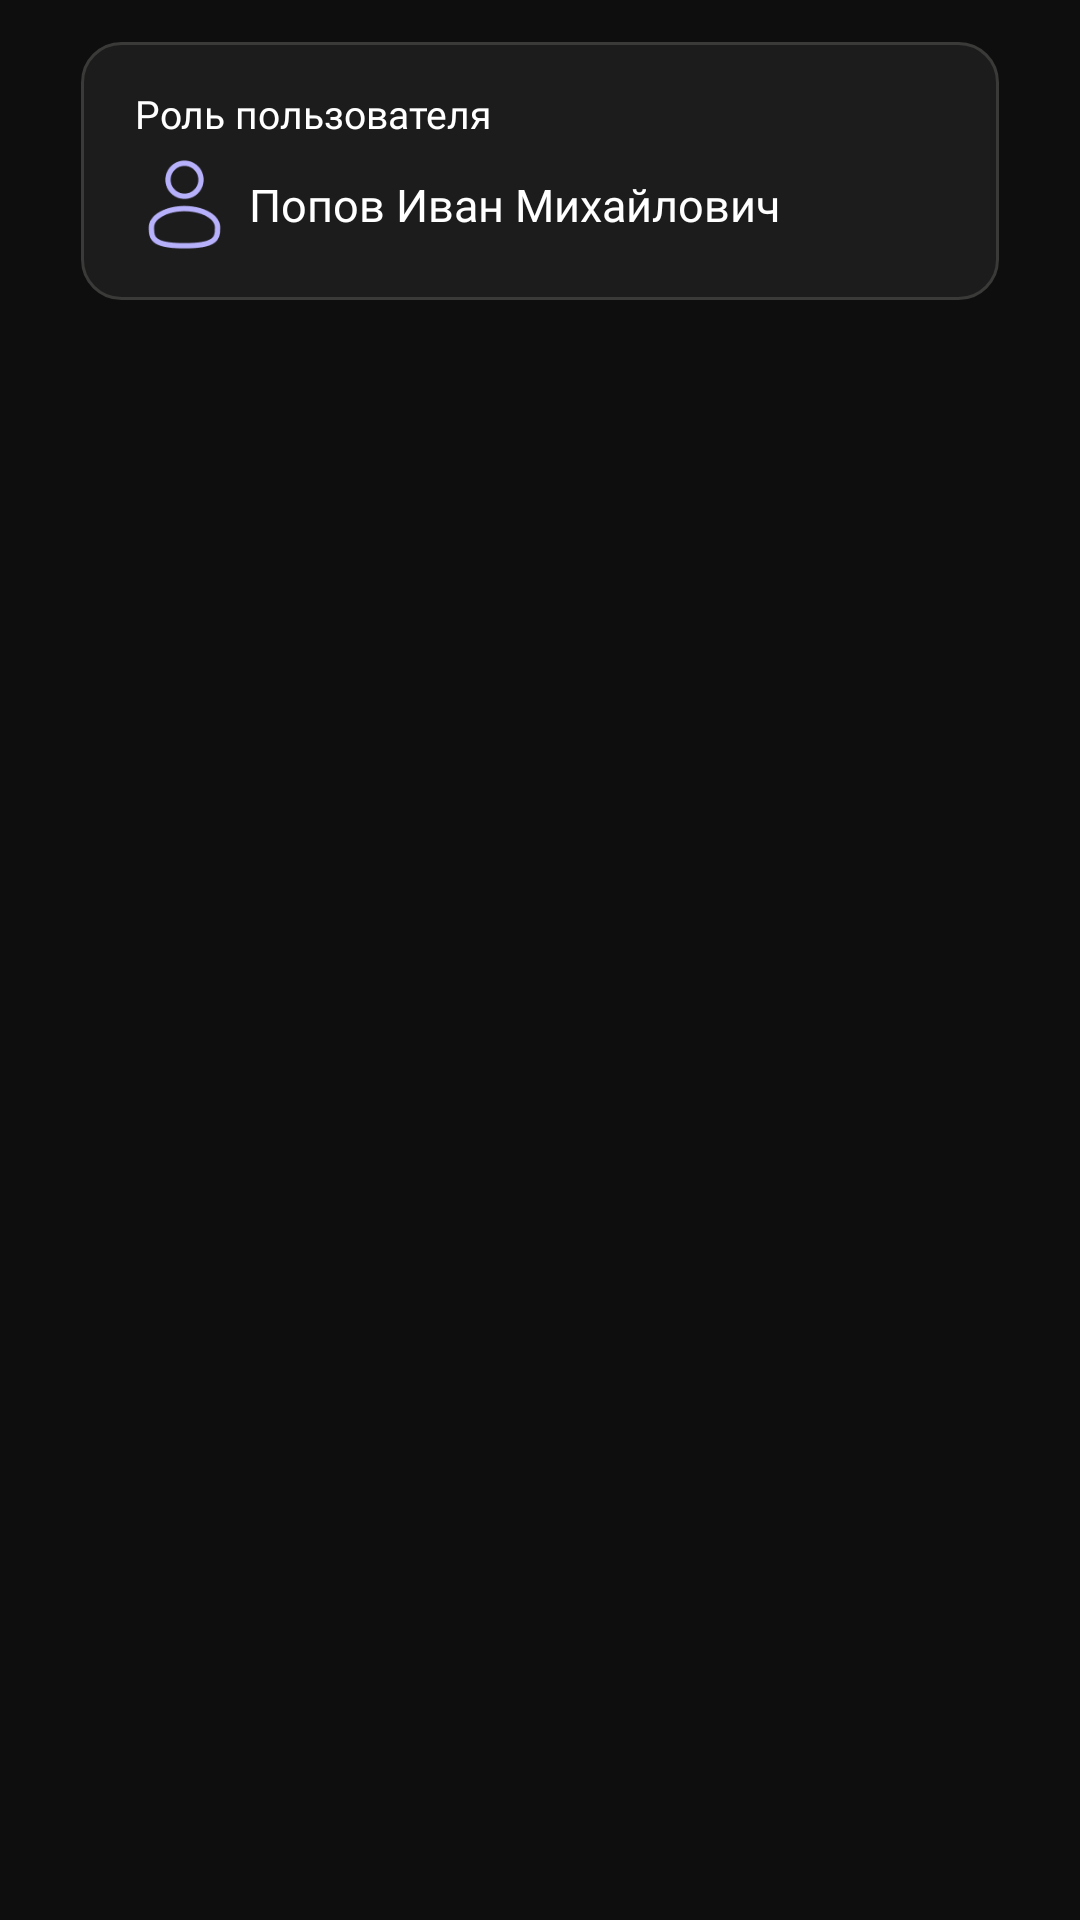

Where to tap for icons on this 1080px×1920px app screen, as point (x, y):
user: point (184, 204)
